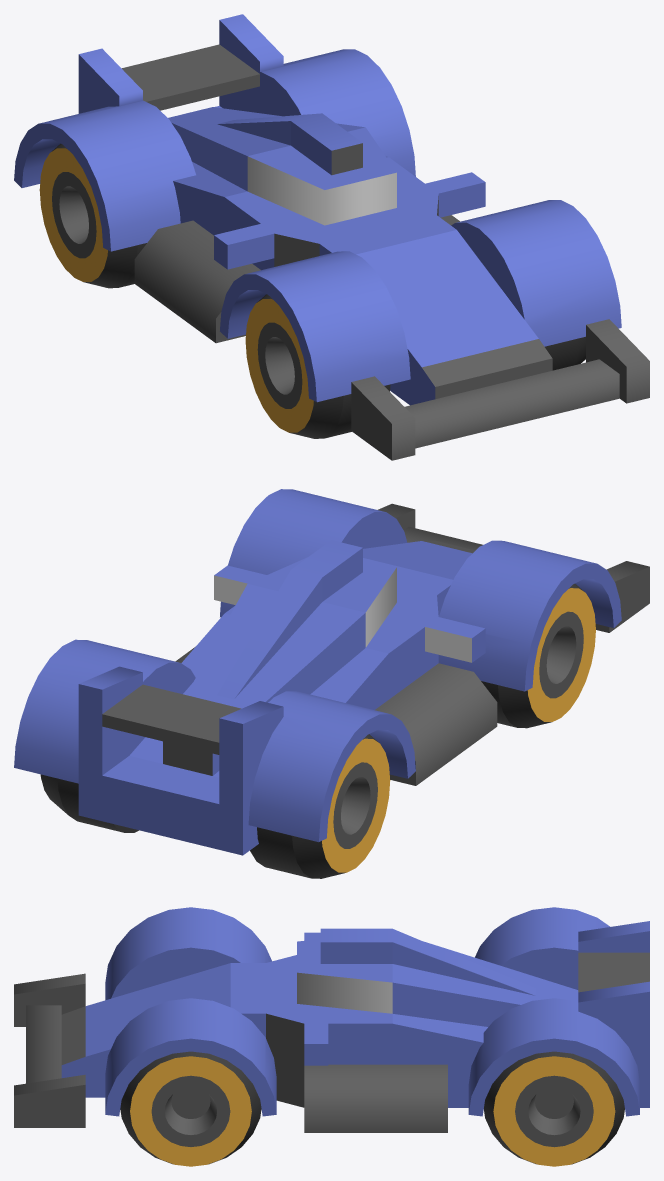
The model's file is raceFuture.fbx.
3 renders of one model, top to bottom at view 1: azimuth 30°, elevation 25°; view 2: azimuth 150°, elevation 25°; view 3: azimuth 270°, elevation 25°, orthographic. The views are drawn at different scales.
Visible parts, largest first — view 1: body, wheel_frontRight, wheel_backRight, wheel_frontLeft; view 2: body, wheel_backRight, wheel_frontRight, wheel_backLeft; view 3: body, wheel_frontLeft, wheel_backLeft.
Part boxes in pixels (x1,y1,x2,y2): body: (14,14,649,460); wheel_frontRight: (245,294,390,438); wheel_backRight: (39,143,146,288); wheel_frontLeft: (545,336,585,370); body: (14,489,649,855); wheel_backRight: (250,734,390,878); wheel_frontRight: (481,583,595,728); wheel_backLeft: (40,774,138,832); body: (14,907,649,1132); wheel_frontLeft: (120,1051,261,1166); wheel_backLeft: (484,1051,624,1166).
Bounding box in the file's own units: 13 × 8.33 × 26.6.
